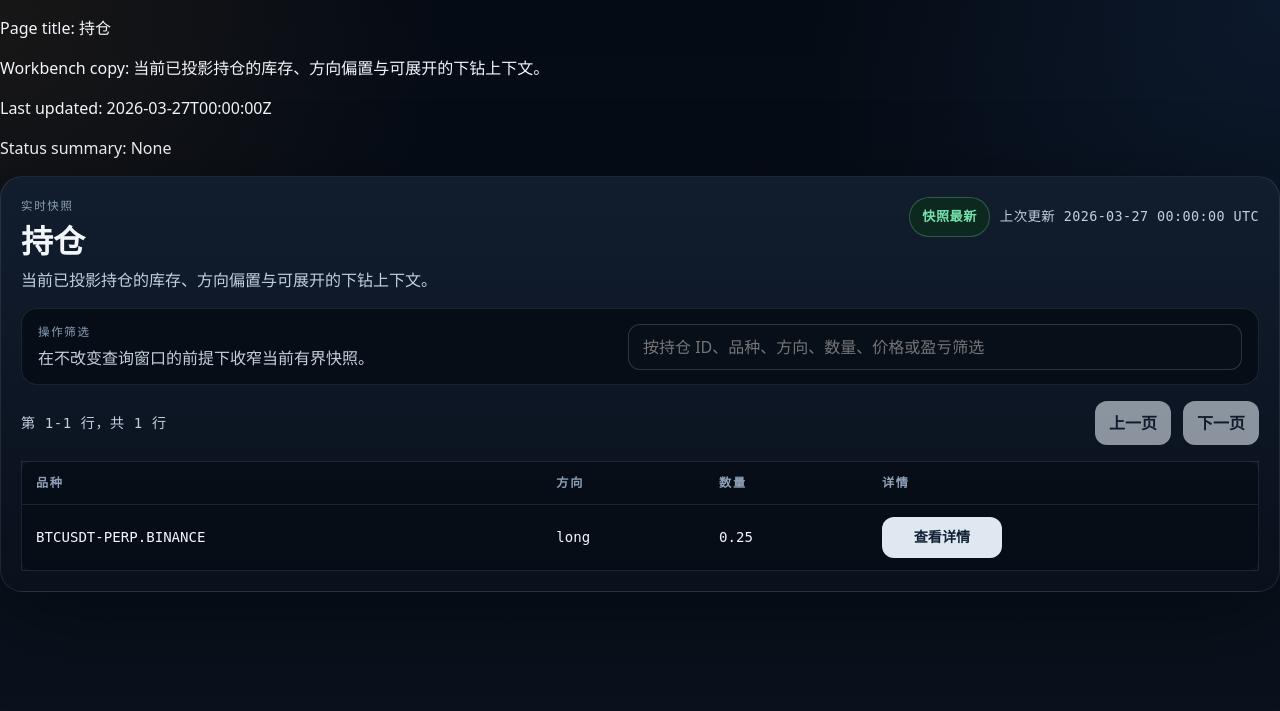
it: localizes position drill-down labels in Simplified Chinese
Click the button with aria-label "查看 BTCUSDT-PERP.BINANCE 的详情": (942, 538) [882,517,1002,558]
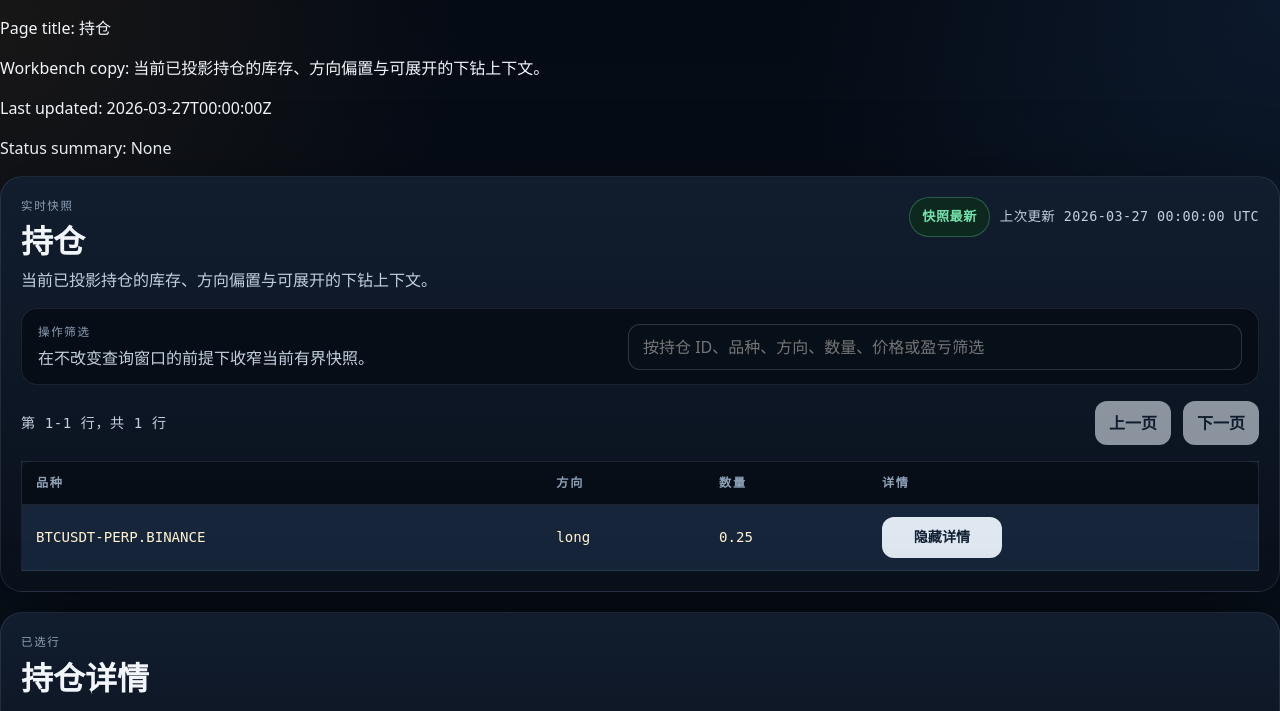
Result: the heading "持仓详情" is shown at [21,661,149,694]
Result: the button with aria-label "隐藏 BTCUSDT-PERP.BINANCE 的详情" is shown at [882,517,1002,558]
